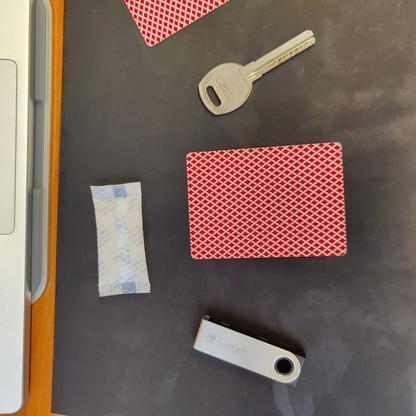card: (176, 138, 355, 260)
